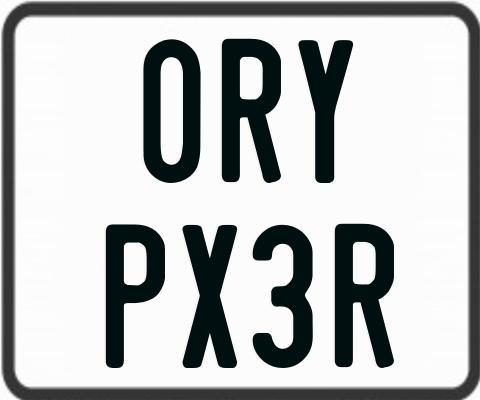0: (140, 38, 200, 184)
3: (250, 223, 311, 370)
P: (105, 222, 164, 366)
R: (334, 221, 398, 370), (221, 37, 282, 183)
X: (181, 223, 240, 367)
Y: (296, 39, 350, 183)
